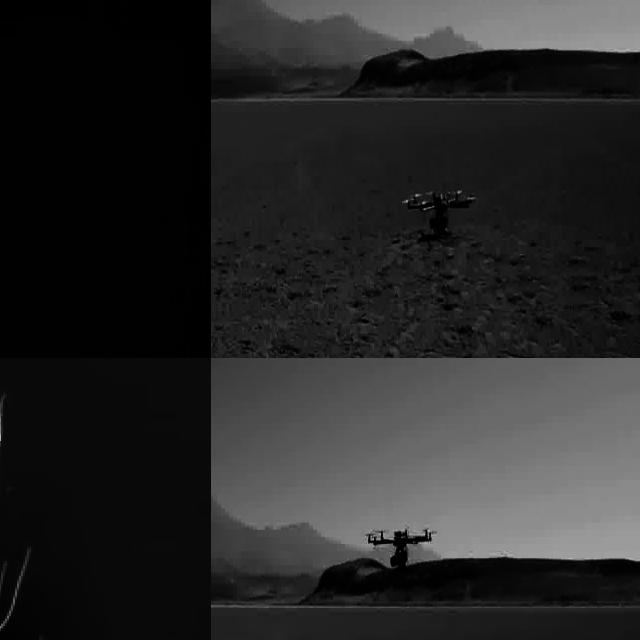0: (3, 481, 21, 499)
drone: (405, 188, 476, 236), (367, 527, 435, 568)
